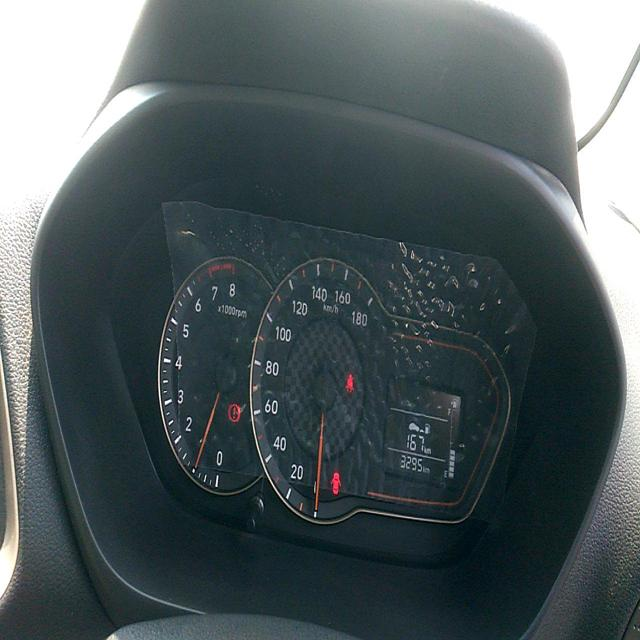odometer: (399, 452, 424, 474)
